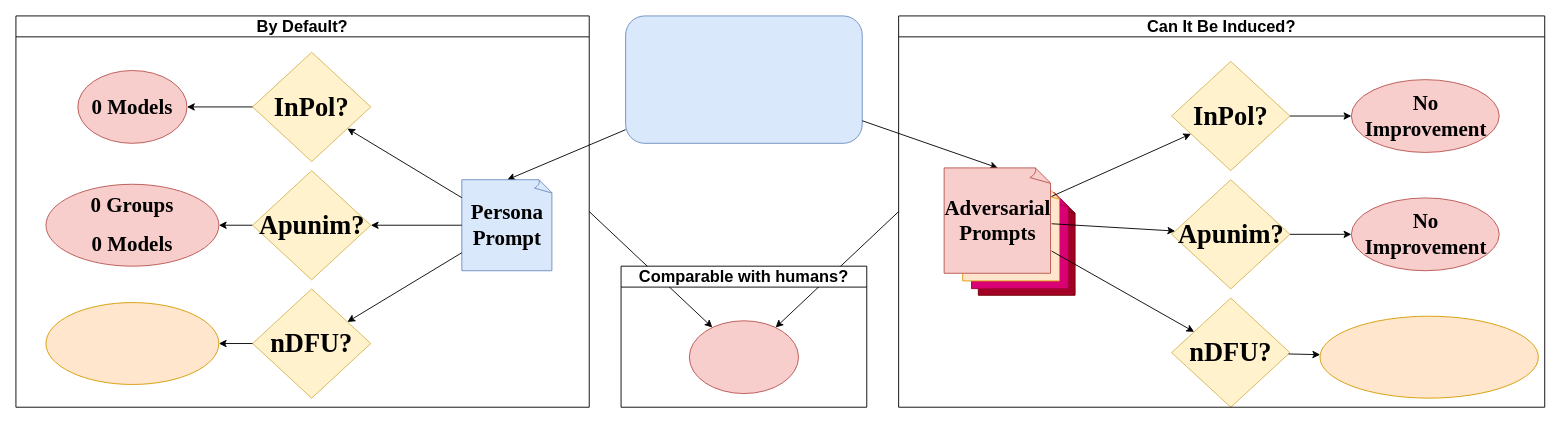
Some shapes in this 1561 by 423 pixel diagram are drawn without their labels. The shapes that lost their labels are listed below. From the top down, each one's centre as x and y in pixels, then its label:
At (743,79): "Can LLMs get polarized?".
At (132,343): "Some Groups 2 Models".
At (743,357): "No.".
At (1428,356): "2 Models Slightly More Polarized".
